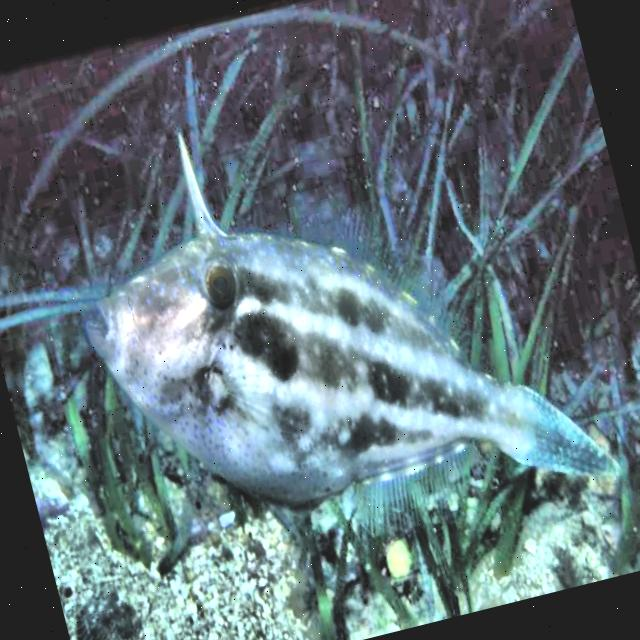fish: (43, 45, 624, 595)
